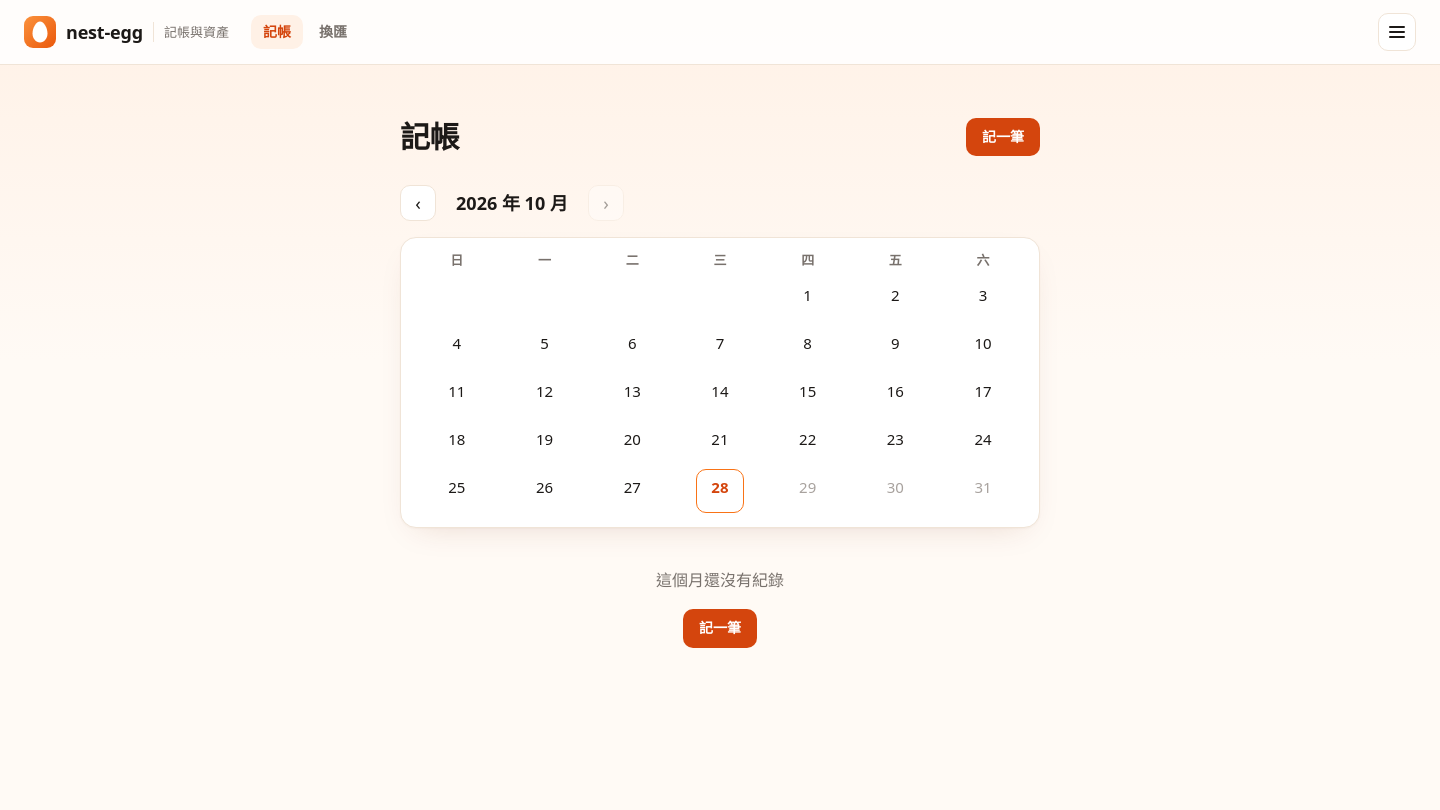
clicking the menu button again closes the menu
Click the button named "帳號選單".
click(1397, 32)  # box [1378,13,1416,51]
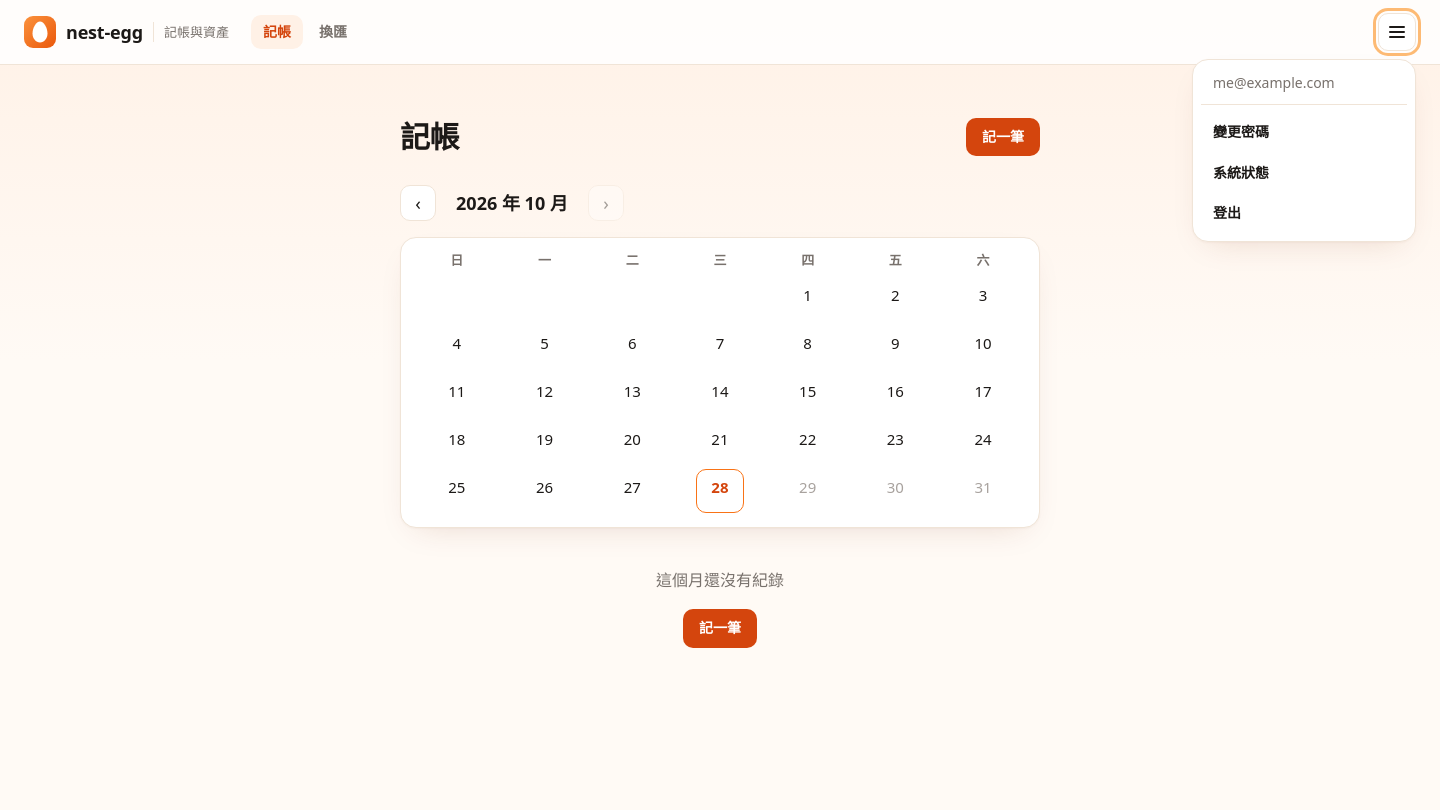
Click the button named "帳號選單".
click(1397, 32)  # box [1378,13,1416,51]
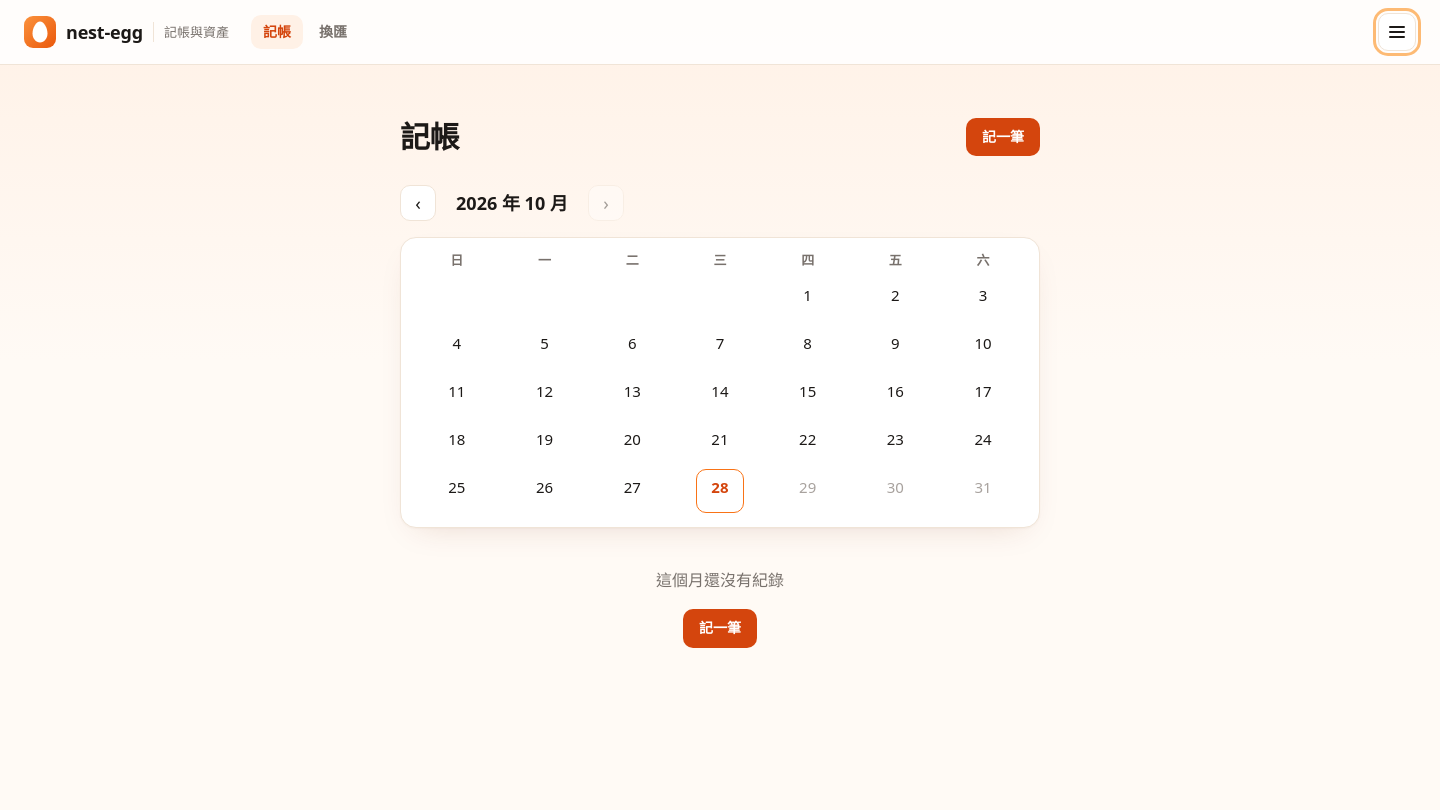
Result: the button "登出" is gone
